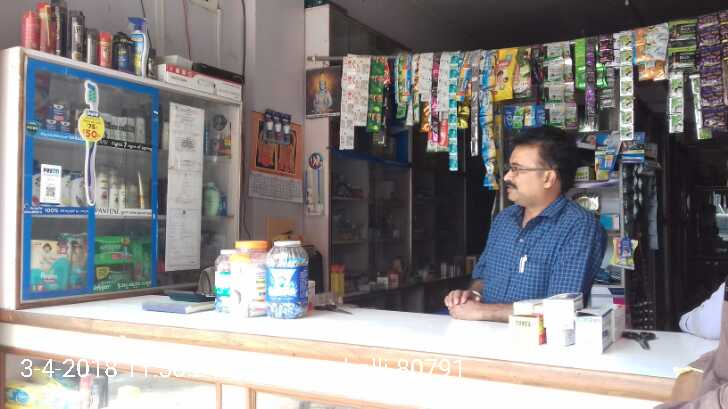vicks: (51, 104, 65, 118), (60, 121, 71, 134), (46, 120, 56, 129)
